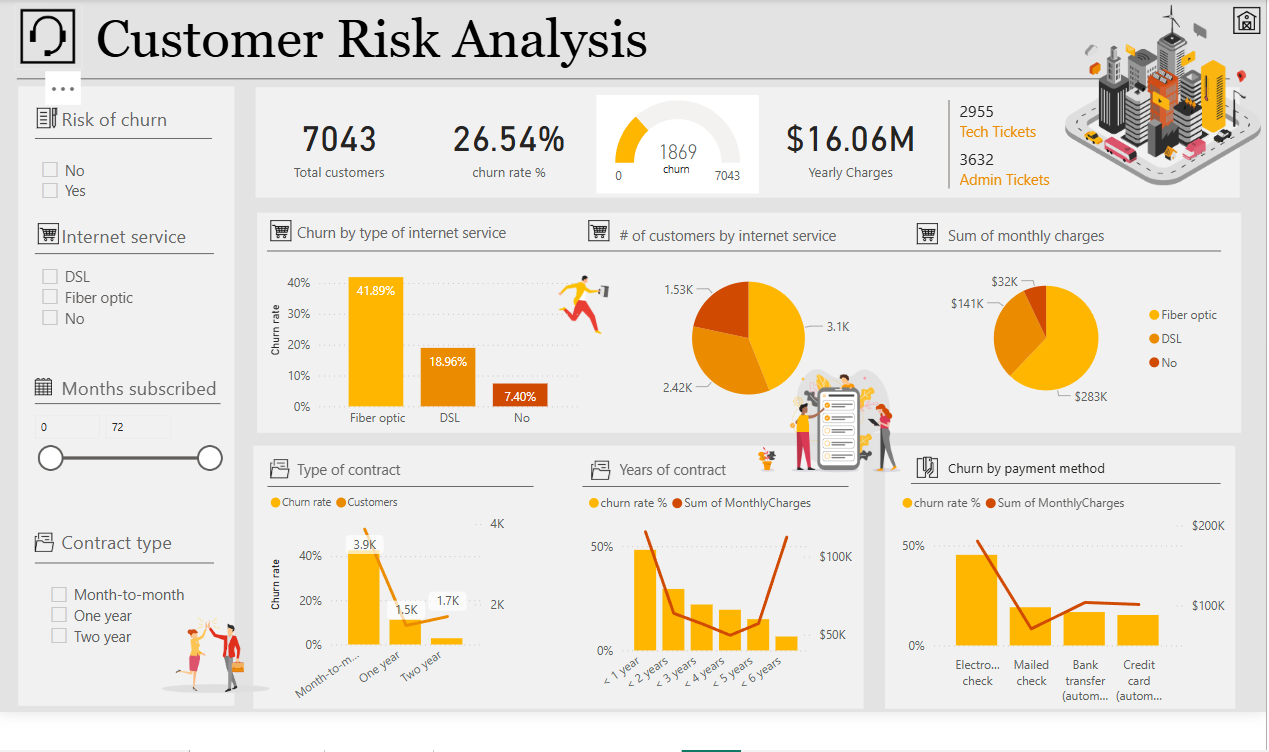

The page's visual inventory and layout, read from the dashboard file:
{"tool":"powerbi","page":{"name":"Customer Risk Analysis","canvas":[1280,720],"ordinal":2},"visuals":[{"type":"basicShape","box":[249.8,87.8,1013.8,113.8],"z":0},{"type":"basicShape","box":[892.2,448.5,360.8,271],"z":1000},{"type":"basicShape","box":[251.8,448.5,628.9,271],"z":2000},{"type":"textbox","box":[94.5,4.8,1167.1,75.2],"z":3000},{"type":"basicShape","box":[9,61,1244.3,40.1],"z":4000},{"type":"basicShape","box":[251.8,214.2,1013.8,226.7],"z":5000},{"type":"basicShape","box":[18.3,81,222.8,638.6],"z":6000},{"type":"card","fields":{"Values":["Min(churn.customerID)"]},"box":[261.4,89,164.9,113.8],"z":7000},{"type":"gauge","fields":{"MaxValue":["CountNonNull(churn.customerID)"],"Y":["churn.Count of Churn for Yes"]},"box":[603.8,96.2,164,99.4],"z":8000},{"type":"slicer","fields":{"Values":["churn.Contract"]},"box":[40.5,584.5,178.4,79.1],"z":9000},{"type":"card","fields":{"Values":["Sum(churn.TotalCharges)"]},"box":[778.4,89,164.9,113.8],"z":10000},{"type":"slicer","fields":{"Values":["churn.Churn"]},"box":[31.8,156.3,173.6,57.9],"z":11000},{"type":"image","box":[557.5,242.1,66.6,129.3],"z":12000},{"type":"image","box":[150.5,610.6,136,105.1],"z":13000},{"type":"slicer","title":"Number of months subscribed","fields":{"Values":["churn.tenure"]},"box":[24.1,410.9,210.3,70.4],"z":14000},{"type":"image","box":[17.4,4.8,67.5,65.6],"z":15000},{"type":"textbox","box":[59.8,102.2,174.6,40.5],"z":16000},{"type":"basicShape","box":[28,120.6,198.7,39.5],"z":17000},{"type":"textbox","box":[59.8,374.3,185.2,39.5],"z":18000},{"type":"basicShape","box":[28,389.7,207.4,38.6],"z":19000},{"type":"basicShape","box":[28,549.8,200.6,39.5],"z":20000},{"type":"image","box":[31.8,374.3,28,34.7],"z":21000},{"type":"textbox","box":[59.8,529.6,159.2,40.5],"z":22000},{"type":"image","box":[31.8,105.1,34.7,30.9],"z":23000},{"type":"image","box":[31.8,524.7,29.9,45.3],"z":24000},{"type":"textbox","box":[59.8,221.2,180.4,40.5],"z":25000},{"type":"basicShape","box":[28,237,200.6,38.6],"z":26000},{"type":"slicer","fields":{"Values":["churn.InternetService"]},"box":[31.8,263.3,200.6,78.1],"z":27000},{"type":"card","fields":{"Values":["churn.churn rate %"]},"box":[437,89,156.3,113.8],"z":28000},{"type":"lineClusteredColumnComboChart","fields":{"Category":["churn.Contract"],"Y":["churn.churn rate %"],"Y2":["CountNonNull(churn.customerID)"]},"box":[269.1,489,246.9,230.5],"z":29000},{"type":"lineClusteredColumnComboChart","fields":{"Y":["churn.churn rate %"],"Y2":["CountNonNull(churn.MonthlyCharges)"],"Category":["churn.Loyalty"]},"box":[591.3,489,276.8,230.5],"z":30000},{"type":"textbox","box":[296.1,220,300.9,40.5],"z":31000},{"type":"basicShape","box":[261.4,234.4,982.9,39.5],"z":32000},{"type":"clusteredColumnChart","fields":{"Category":["churn.InternetService"],"Y":["churn.churn rate %"]},"box":[269.1,242.1,322.2,198.7],"z":33000},{"type":"pieChart","fields":{"Y":["CountNonNull(churn.MonthlyCharges)"],"Category":["churn.InternetService"]},"box":[949.1,264.3,295.2,154.3],"z":34000},{"type":"pieChart","fields":{"Category":["churn.InternetService"],"Y":["CountNonNull(churn.customerID)"]},"box":[622.2,261.4,270.1,160.1],"z":35000},{"type":"textbox","box":[954,221.9,283.6,40.5],"z":36000},{"type":"textbox","box":[622.2,221.9,285.5,40.5],"z":37000},{"type":"basicShape","box":[261.4,471.7,288.4,39.5],"z":38000},{"type":"textbox","box":[296.1,459.1,237.3,40.5],"z":39000},{"type":"textbox","box":[622.2,459.1,270.1,40.5],"z":40000},{"type":"basicShape","box":[579.7,471.7,288.4,39.5],"z":41000},{"type":"lineClusteredColumnComboChart","fields":{"Y":["churn.churn rate %"],"Y2":["CountNonNull(churn.MonthlyCharges)"],"Category":["churn.PaymentMethod"]},"box":[907.7,489,336.6,230.5],"z":42000},{"type":"basicShape","box":[911.5,469.8,332.8,39.5],"z":43000},{"type":"textbox","box":[954.3,459.1,270.1,40.5],"z":44000},{"type":"multiRowCard","fields":{"Values":["Sum(churn.numTechTickets)","Sum(churn.numAdminTickets)"]},"box":[954,96.2,207.4,99.4],"z":45000},{"type":"image","box":[922.1,452.4,31.8,39.5],"z":46000},{"type":"image","box":[593.2,452.4,29.9,45.3],"z":47000},{"type":"image","box":[269.1,451.4,29.9,45.3],"z":48000},{"type":"image","box":[34.7,219.9,31.8,34.7],"z":49000},{"type":"image","box":[269.1,217,31.8,34.7],"z":50000},{"type":"image","box":[591.3,217,31.8,34.7],"z":51000},{"type":"image","box":[922.1,219.9,31.8,34.7],"z":52000},{"type":"textbox","box":[666.5,156.3,57.9,28.9],"z":53000},{"type":"image","box":[1072.6,0,207.4,193.9],"z":54000},{"type":"image","box":[1242,0,38,42.9],"z":55000},{"type":"image","box":[752.4,361.7,191,129.3],"z":56000}]}

Visuals, with their boxes on the page's 1280x720 design canvas (x1, y1, x2, y2). These are canvas units, not pixel positions in the 1269x752 screenshot, which may show the page scaled, cropped or inside an application window:
basicShape: detection(250, 88, 1264, 202)
basicShape: detection(892, 448, 1253, 720)
basicShape: detection(252, 448, 881, 720)
textbox: detection(94, 5, 1262, 80)
basicShape: detection(9, 61, 1253, 101)
basicShape: detection(252, 214, 1266, 441)
basicShape: detection(18, 81, 241, 720)
card - Min(churn.customerID): detection(261, 89, 426, 203)
gauge - CountNonNull(churn.customerID) x churn.Count of Churn for Yes: detection(604, 96, 768, 196)
slicer - churn.Contract: detection(40, 584, 219, 664)
card - Sum(churn.TotalCharges): detection(778, 89, 943, 203)
slicer - churn.Churn: detection(32, 156, 205, 214)
image: detection(558, 242, 624, 371)
image: detection(150, 611, 286, 716)
"Number of months subscribed" slicer: detection(24, 411, 234, 481)
image: detection(17, 5, 85, 70)
textbox: detection(60, 102, 234, 143)
basicShape: detection(28, 121, 227, 160)
textbox: detection(60, 374, 245, 414)
basicShape: detection(28, 390, 235, 428)
basicShape: detection(28, 550, 229, 589)
image: detection(32, 374, 60, 409)
textbox: detection(60, 530, 219, 570)
image: detection(32, 105, 66, 136)
image: detection(32, 525, 62, 570)
textbox: detection(60, 221, 240, 262)
basicShape: detection(28, 237, 229, 276)
slicer - churn.InternetService: detection(32, 263, 232, 341)
card - churn.churn rate %: detection(437, 89, 593, 203)
lineClusteredColumnComboChart - churn.Contract x churn.churn rate %: detection(269, 489, 516, 720)
lineClusteredColumnComboChart - churn.churn rate % x CountNonNull(churn.MonthlyCharges): detection(591, 489, 868, 720)
textbox: detection(296, 220, 597, 260)
basicShape: detection(261, 234, 1244, 274)
clusteredColumnChart - churn.InternetService x churn.churn rate %: detection(269, 242, 591, 441)
pieChart - CountNonNull(churn.MonthlyCharges) x churn.InternetService: detection(949, 264, 1244, 419)
pieChart - churn.InternetService x CountNonNull(churn.customerID): detection(622, 261, 892, 422)
textbox: detection(954, 222, 1238, 262)
textbox: detection(622, 222, 908, 262)
basicShape: detection(261, 472, 550, 511)
textbox: detection(296, 459, 533, 500)
textbox: detection(622, 459, 892, 500)
basicShape: detection(580, 472, 868, 511)
lineClusteredColumnComboChart - churn.churn rate % x CountNonNull(churn.MonthlyCharges): detection(908, 489, 1244, 720)
basicShape: detection(912, 470, 1244, 509)
textbox: detection(954, 459, 1224, 500)
multiRowCard - Sum(churn.numTechTickets) x Sum(churn.numAdminTickets): detection(954, 96, 1161, 196)
image: detection(922, 452, 954, 492)
image: detection(593, 452, 623, 498)
image: detection(269, 451, 299, 497)
image: detection(35, 220, 66, 255)
image: detection(269, 217, 301, 252)
image: detection(591, 217, 623, 252)
image: detection(922, 220, 954, 255)
textbox: detection(666, 156, 724, 185)
image: detection(1073, 0, 1280, 194)
image: detection(1242, 0, 1280, 43)
image: detection(752, 362, 943, 491)
